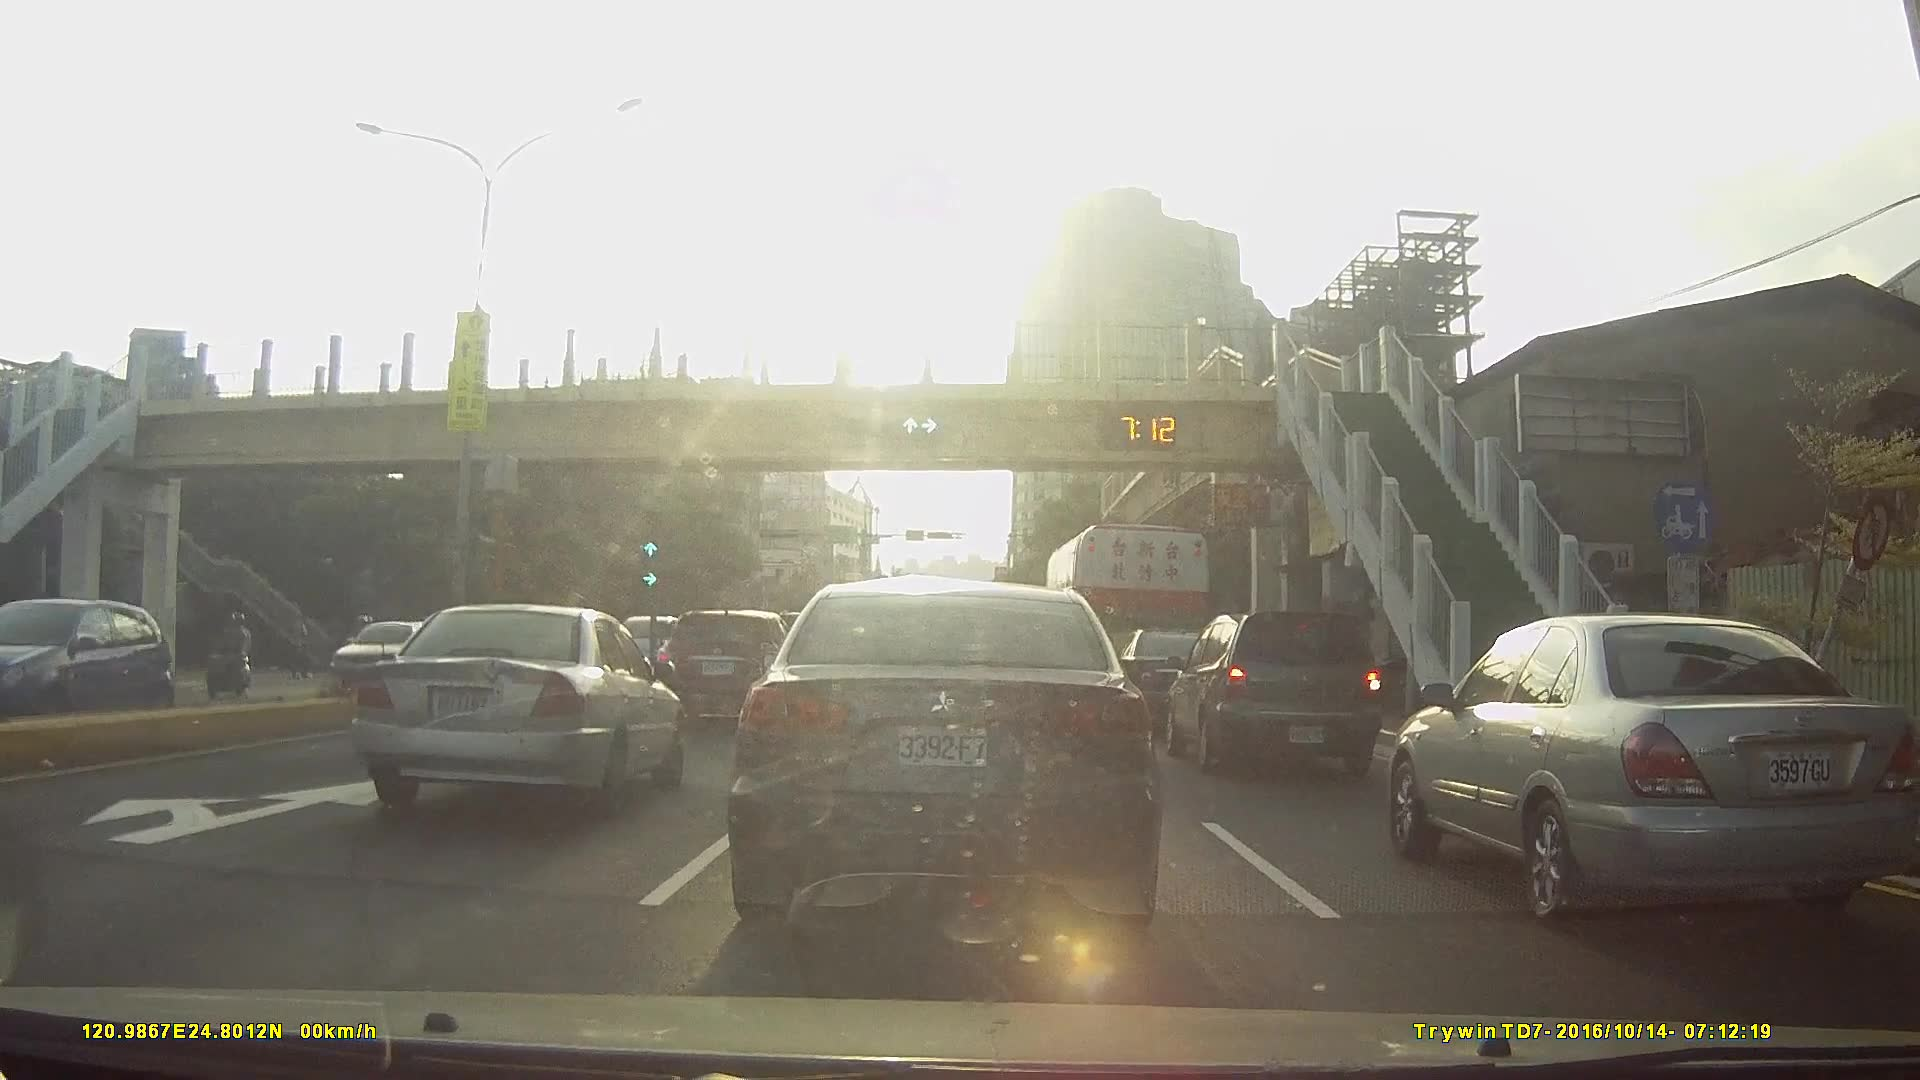rider: (205, 610, 253, 701)
vehicle: (1389, 615, 1920, 931), (727, 575, 1161, 955), (357, 599, 688, 802), (1165, 609, 1404, 781), (1, 598, 184, 724), (653, 607, 795, 723), (1113, 627, 1241, 731), (310, 619, 451, 693)
